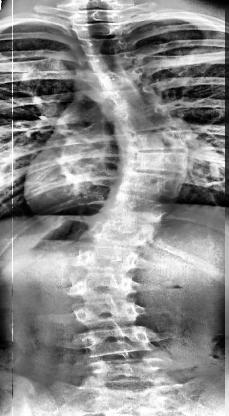Vertebrae: (82, 356, 170, 390), (72, 240, 144, 274), (78, 326, 156, 356), (84, 216, 154, 249), (105, 189, 170, 223), (119, 168, 186, 198), (104, 106, 178, 132), (70, 274, 138, 302), (113, 130, 191, 154), (74, 300, 144, 326), (84, 82, 156, 106), (119, 151, 188, 175), (82, 66, 146, 86), (78, 37, 132, 57), (83, 52, 141, 70), (69, 9, 127, 25), (72, 22, 128, 38)
